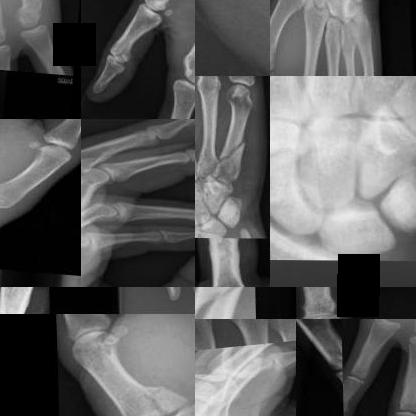fracture: (138, 376, 192, 415), (195, 287, 256, 319), (211, 135, 248, 173), (195, 349, 246, 368), (18, 0, 55, 16)
